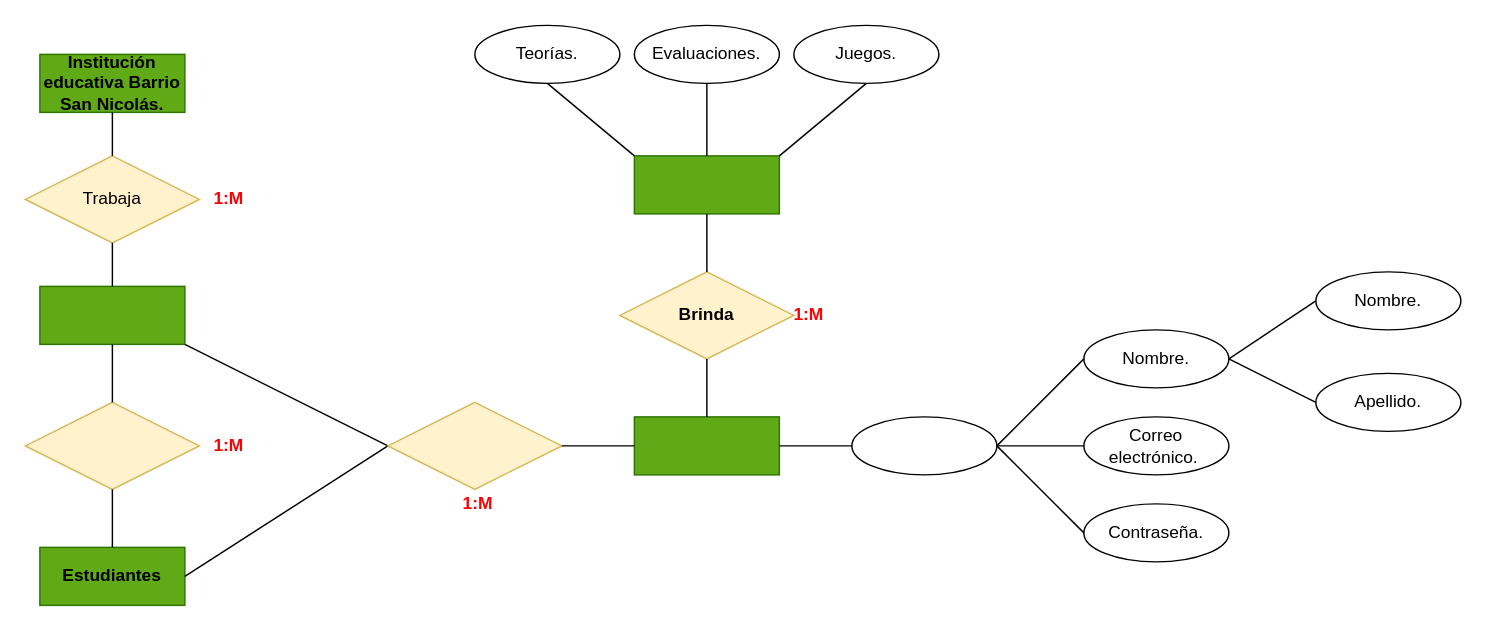
Some shapes in this 1486 by 631 pixel diagram are drawn without their labels. Each missing label, with the centre of its shape:
App ANCAWIJU.: the point at 706,445
Dirige: the point at 111,445
Docentes.: the point at 111,314
Registro: the point at 923,445
Tienen acceso: the point at 474,445
Usuarios.: the point at 706,184
